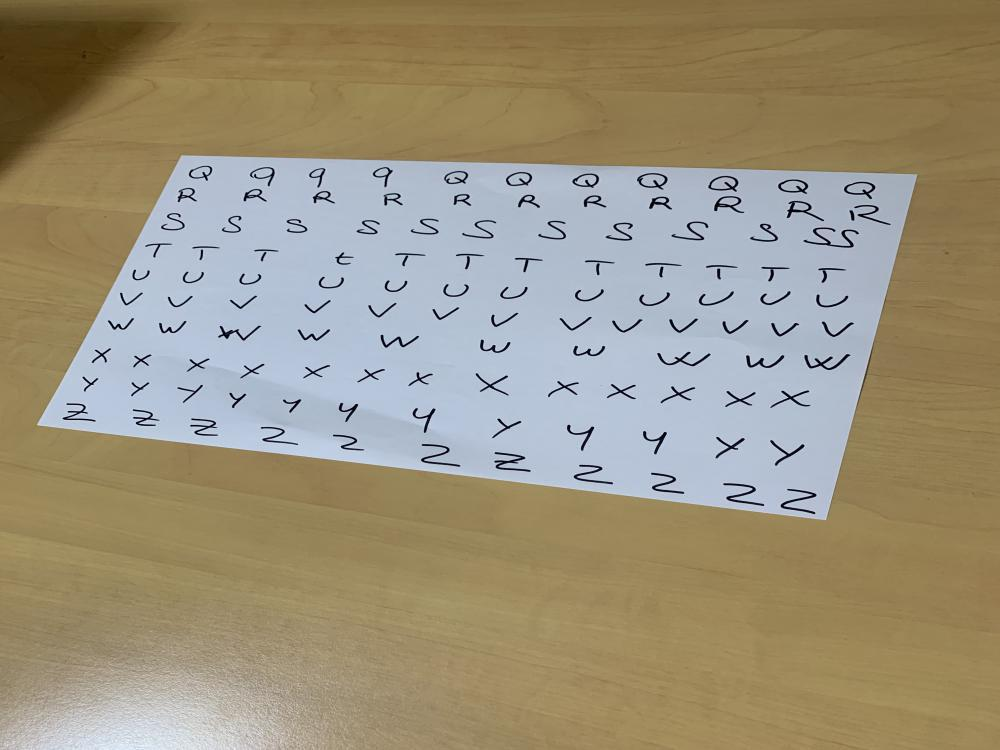9: (752, 221, 780, 244), (250, 166, 278, 188), (372, 166, 395, 188), (308, 168, 326, 188)
Q: (842, 180, 878, 202), (637, 172, 670, 193), (706, 176, 742, 195), (184, 162, 215, 182), (572, 170, 602, 190), (778, 178, 810, 196), (506, 170, 532, 188), (444, 170, 471, 186)
R: (846, 203, 892, 227), (785, 200, 823, 222), (712, 196, 749, 216), (240, 186, 270, 205), (310, 190, 339, 208), (645, 196, 676, 212), (514, 194, 544, 210), (176, 186, 199, 204), (584, 194, 607, 212), (384, 191, 404, 209), (450, 193, 474, 208)
S: (672, 220, 712, 242), (533, 219, 572, 240), (802, 225, 837, 248), (462, 218, 497, 240), (604, 220, 636, 244), (410, 216, 442, 238), (836, 227, 863, 251), (282, 217, 312, 236), (159, 213, 188, 232), (220, 213, 245, 235), (354, 217, 382, 236)
T: (811, 266, 847, 286), (390, 252, 429, 269), (450, 252, 486, 270), (512, 255, 546, 273), (646, 261, 681, 278), (585, 257, 615, 276), (143, 242, 174, 260), (703, 263, 737, 279), (761, 264, 790, 282), (188, 244, 220, 260), (252, 247, 280, 263), (332, 252, 356, 266)
U: (813, 290, 850, 308), (698, 289, 734, 307), (499, 284, 534, 302), (637, 290, 672, 308), (312, 275, 348, 292), (572, 286, 607, 303), (440, 282, 472, 300), (760, 290, 792, 306), (378, 280, 411, 294), (178, 270, 206, 286), (237, 273, 266, 286), (130, 266, 152, 282)
V: (552, 316, 599, 332), (820, 318, 855, 337), (487, 310, 523, 328), (769, 320, 801, 340), (366, 302, 399, 320), (718, 316, 750, 334), (610, 318, 645, 334), (226, 295, 258, 312), (164, 294, 196, 309), (430, 306, 460, 322), (668, 317, 696, 334), (302, 300, 334, 314), (116, 292, 146, 306)
W: (654, 350, 712, 370), (802, 353, 851, 371), (219, 324, 263, 342), (378, 332, 424, 349), (745, 352, 787, 370), (570, 344, 612, 359), (296, 327, 332, 343), (478, 339, 514, 355), (106, 316, 138, 332), (155, 320, 188, 335)
X: (474, 371, 514, 398), (771, 388, 812, 408), (544, 378, 581, 400), (722, 388, 758, 410), (298, 363, 337, 382), (661, 385, 700, 404), (605, 382, 641, 402), (356, 366, 386, 385), (129, 352, 154, 370), (189, 357, 215, 374), (408, 371, 436, 386), (240, 364, 269, 378), (92, 346, 113, 364)
Y: (764, 440, 809, 468), (564, 422, 596, 451), (710, 437, 745, 462), (642, 428, 672, 456), (410, 405, 438, 433), (492, 418, 522, 442), (178, 383, 208, 403), (336, 400, 360, 425), (126, 379, 154, 398), (279, 396, 305, 416), (78, 375, 101, 393), (227, 390, 247, 408)
Z: (718, 481, 764, 506), (568, 463, 614, 486), (418, 442, 460, 467), (260, 425, 302, 448), (494, 452, 536, 474), (785, 488, 818, 516), (647, 471, 683, 495), (62, 400, 96, 425), (329, 433, 367, 453), (128, 408, 161, 430), (187, 418, 223, 438)
